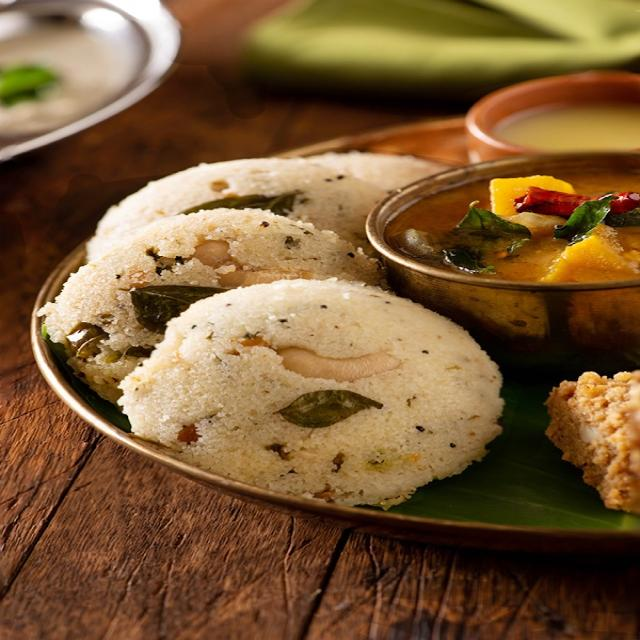rave idli: (118, 272, 512, 528), (32, 208, 380, 394), (83, 146, 384, 275)
